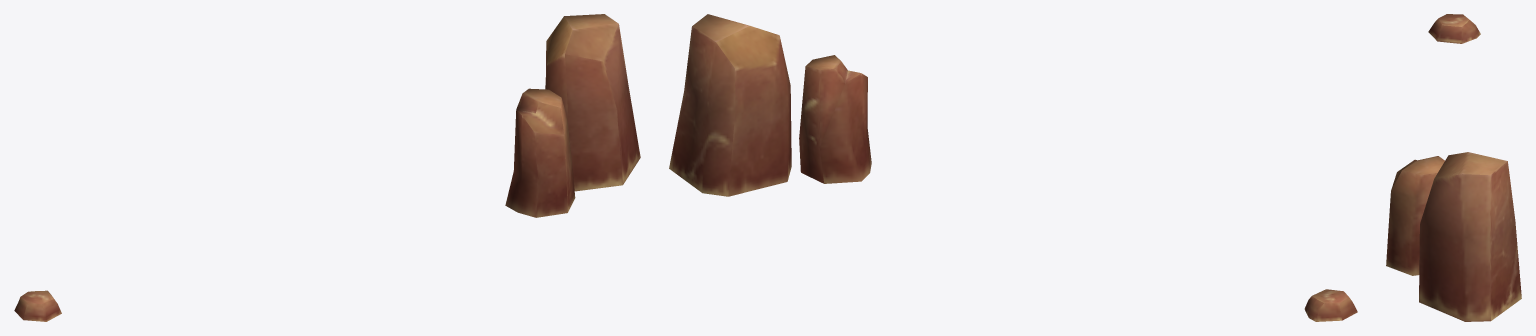
The model's file is Area_01_8.fbx.
The picture shows the model from 3 angles, left to right: view 1: azimuth 30°, elevation 25°; view 2: azimuth 150°, elevation 25°; view 3: azimuth 270°, elevation 25°; orthographic projection. The views are drawn at different scales.
Parts seen in each view (by area): view 1: Area_01_8; view 2: Area_01_8; view 3: Area_01_8.
Part boxes in pixels (x1,y1,x2,y2): Area_01_8: (14,14,640,321); Area_01_8: (669,14,1357,321); Area_01_8: (1386,14,1521,321).
Size of the model in its own units: 3614 by 787 by 696.
1 material, 1 textured.
